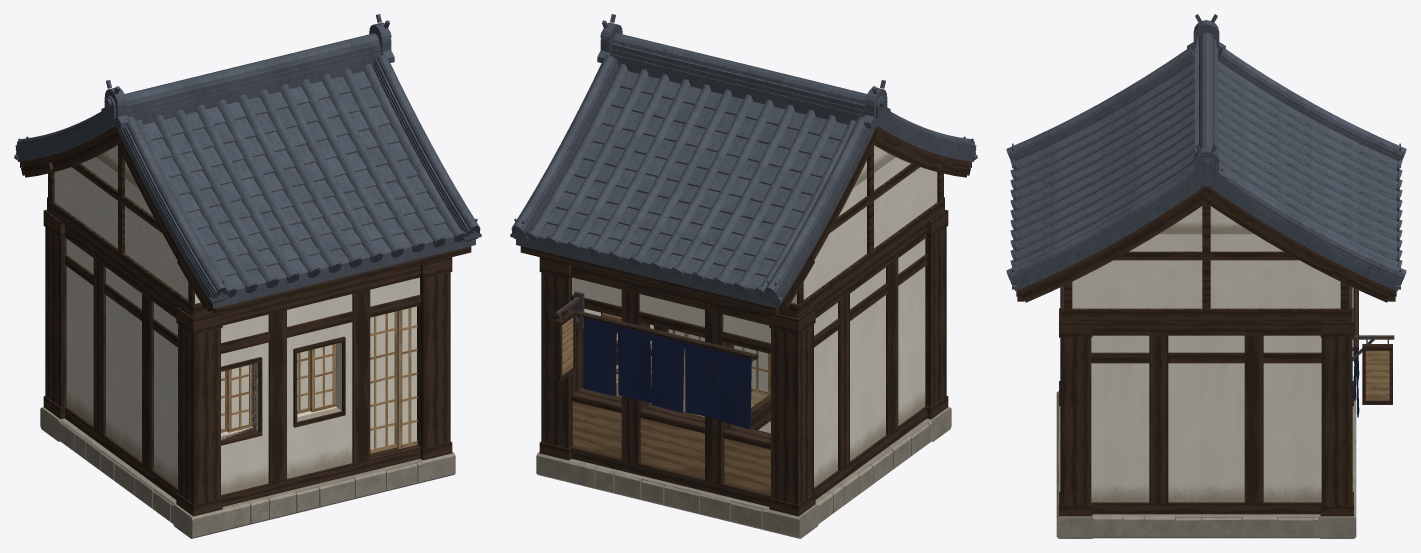
The model's file is HO_Bldg_Machiya_A.fbx.
3 renders of one model, left to right at view 1: azimuth 30°, elevation 25°; view 2: azimuth 150°, elevation 25°; view 3: azimuth 270°, elevation 25°, orthographic.
Visible parts, largest first — view 1: HO_Bldg_Machiya_A_Structure, HO_Bldg_Machiya_A_RoofTiles, HO_Bldg_Machiya_A_RoofFrame, HO_Bldg_Machiya_A_Door2, HO_Bldg_Machiya_A_Door1; view 2: HO_Bldg_Machiya_A_Structure, HO_Bldg_Machiya_A_RoofTiles, HO_Bldg_Machiya_A_RoofFrame, HO_Bldg_Machiya_A_Front, HO_Bldg_Machiya_A_Interior, HO_Bldg_Machiya_A_SignFace; view 3: HO_Bldg_Machiya_A_Structure, HO_Bldg_Machiya_A_RoofTiles, HO_Bldg_Machiya_A_RoofFrame, HO_Bldg_Machiya_A_Front, HO_Bldg_Machiya_A_SignFace.
Boxes of the visible parts, x1=… form: HO_Bldg_Machiya_A_Structure: x1=40, y1=209, x2=455, y2=538; HO_Bldg_Machiya_A_RoofTiles: x1=14, y1=14, x2=481, y2=308; HO_Bldg_Machiya_A_RoofFrame: x1=20, y1=126, x2=471, y2=318; HO_Bldg_Machiya_A_Door2: x1=370, y1=311, x2=396, y2=453; HO_Bldg_Machiya_A_Door1: x1=397, y1=306, x2=417, y2=449; HO_Bldg_Machiya_A_Structure: x1=536, y1=209, x2=951, y2=538; HO_Bldg_Machiya_A_RoofTiles: x1=510, y1=14, x2=977, y2=308; HO_Bldg_Machiya_A_RoofFrame: x1=520, y1=126, x2=971, y2=318; HO_Bldg_Machiya_A_Front: x1=554, y1=291, x2=758, y2=429; HO_Bldg_Machiya_A_Interior: x1=601, y1=312, x2=770, y2=433; HO_Bldg_Machiya_A_SignFace: x1=562, y1=317, x2=573, y2=374; HO_Bldg_Machiya_A_Structure: x1=1056, y1=287, x2=1356, y2=538; HO_Bldg_Machiya_A_RoofTiles: x1=1006, y1=14, x2=1406, y2=291; HO_Bldg_Machiya_A_RoofFrame: x1=1016, y1=186, x2=1396, y2=321; HO_Bldg_Machiya_A_Front: x1=1352, y1=288, x2=1394, y2=417; HO_Bldg_Machiya_A_SignFace: x1=1365, y1=350, x2=1389, y2=400.
Size of the model in its own units: 13.51 by 18.38 by 16.83.
